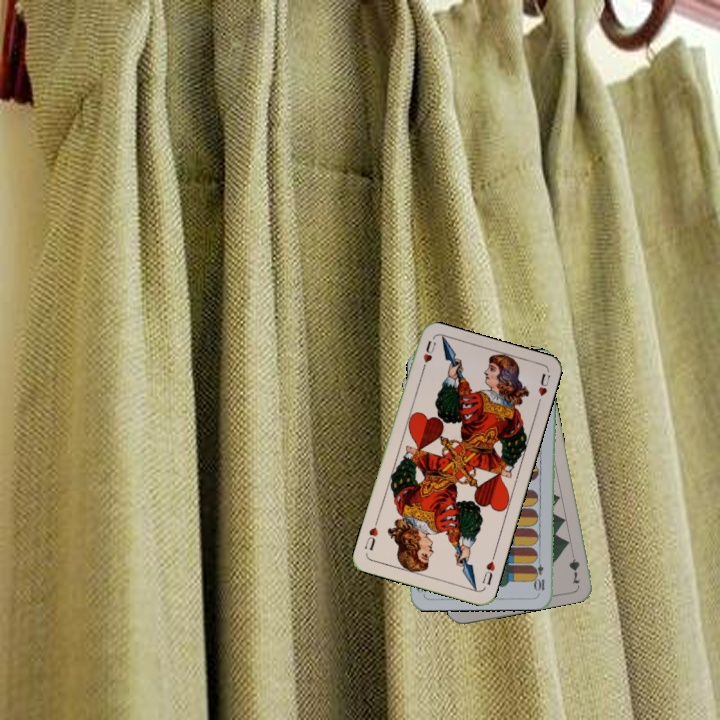E10: (533, 553, 547, 593)
G7: (565, 546, 583, 587)
HU: (417, 337, 438, 376), (478, 551, 498, 588)
